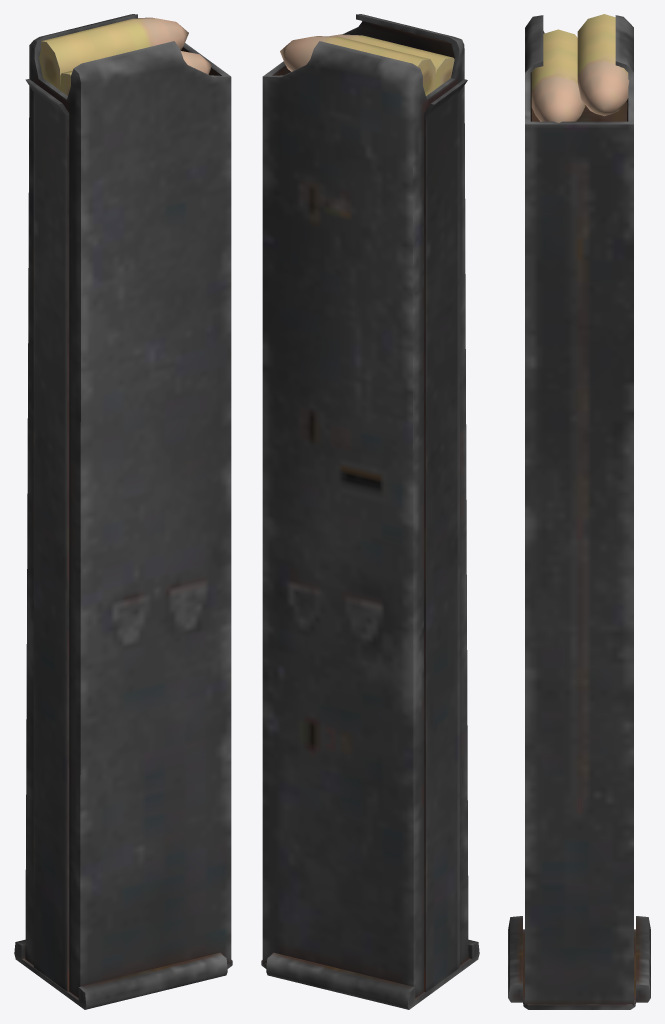
File: Uzi_ammo_pickup.FBX
3 renders of one model, left to right at view 1: azimuth 30°, elevation 25°; view 2: azimuth 150°, elevation 25°; view 3: azimuth 270°, elevation 25°, orthographic.
Visible parts, largest first — view 1: ST_MAG_EX_UZI; view 2: ST_MAG_EX_UZI; view 3: ST_MAG_EX_UZI.
Boxes of the visible parts, bbox=[...] form: ST_MAG_EX_UZI: bbox=[14, 14, 232, 1009]; ST_MAG_EX_UZI: bbox=[261, 14, 479, 1009]; ST_MAG_EX_UZI: bbox=[508, 14, 650, 1009].
Bounding box in the file's own units: 3.46 × 18.72 × 2.62.
